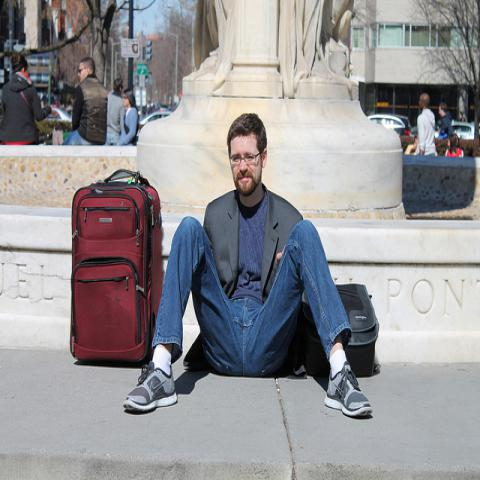car: (44, 106, 412, 137), (138, 110, 173, 130), (450, 123, 476, 142)
